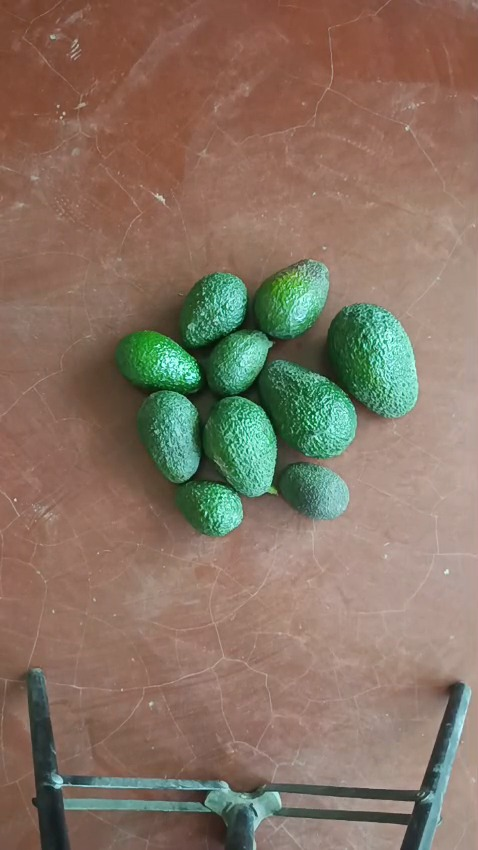Primera: (325, 303, 419, 417), (202, 396, 279, 496)
Segunda: (259, 359, 358, 459), (136, 389, 204, 484), (253, 259, 331, 340), (114, 330, 204, 396), (177, 272, 249, 349)
Tercera: (203, 330, 274, 397), (277, 462, 350, 519), (173, 479, 243, 536)
